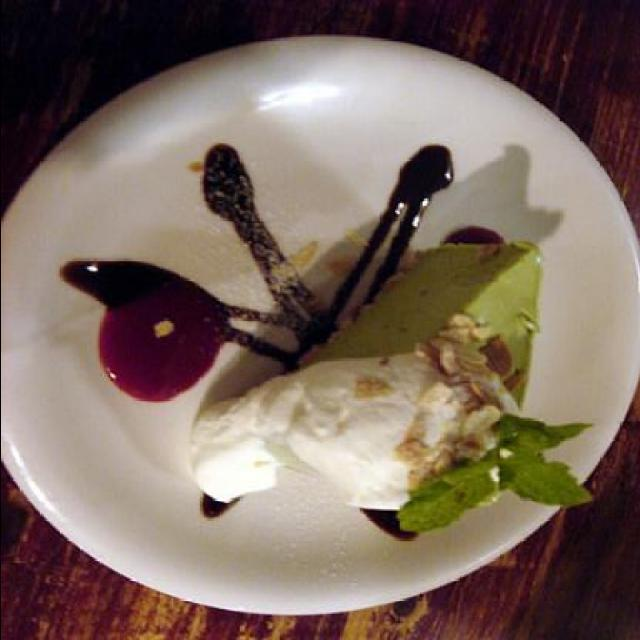Rare cheese cake: (153, 172, 581, 568)
